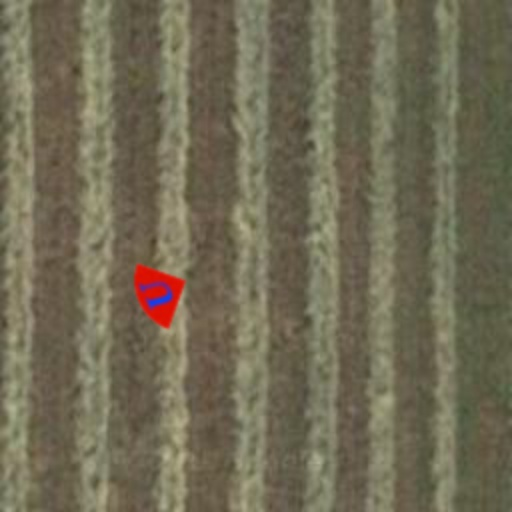quarter_circle: (110, 246, 206, 342)
